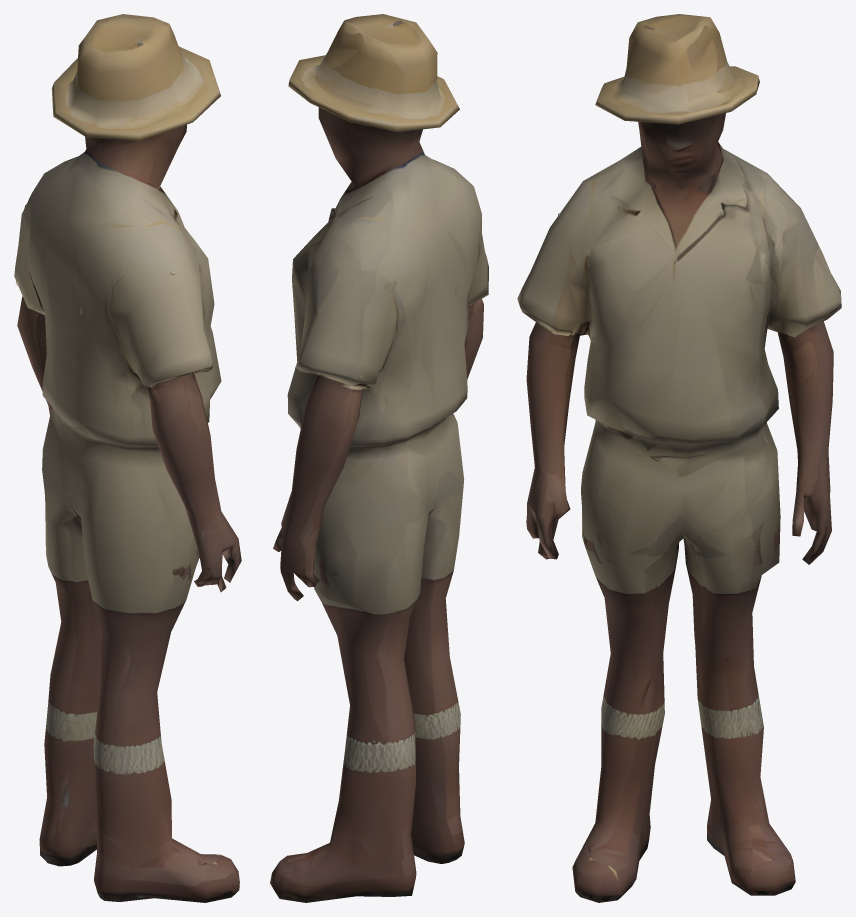
Rendered from Werker.glb.
3 renders of one model, left to right at view 1: azimuth 30°, elevation 25°; view 2: azimuth 150°, elevation 25°; view 3: azimuth 270°, elevation 25°, orthographic.
Visible parts, largest first — view 1: tripo_node_7693d799; view 2: tripo_node_7693d799; view 3: tripo_node_7693d799.
Boxes of the visible parts, box(x1,y1,x2,y2) form: tripo_node_7693d799: box(14, 14, 241, 902); tripo_node_7693d799: box(270, 14, 488, 902); tripo_node_7693d799: box(517, 14, 841, 902).
Bounding box in the file's own units: 18.64 × 99.67 × 34.47.
Materials: 1 (1 with a texture image).
